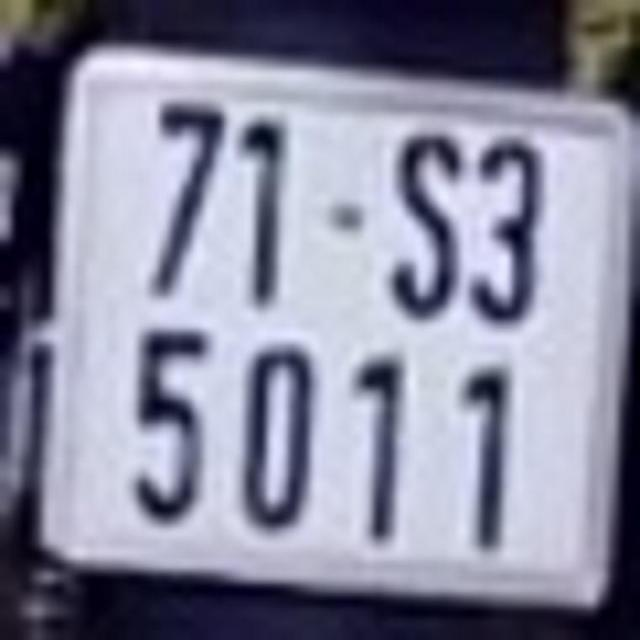0: (238, 340, 318, 532)
1: (462, 363, 517, 552), (240, 116, 286, 316), (357, 354, 404, 544)
3: (473, 131, 543, 327)
5: (132, 327, 206, 523)
7: (136, 100, 226, 310)
S: (388, 130, 463, 311)
